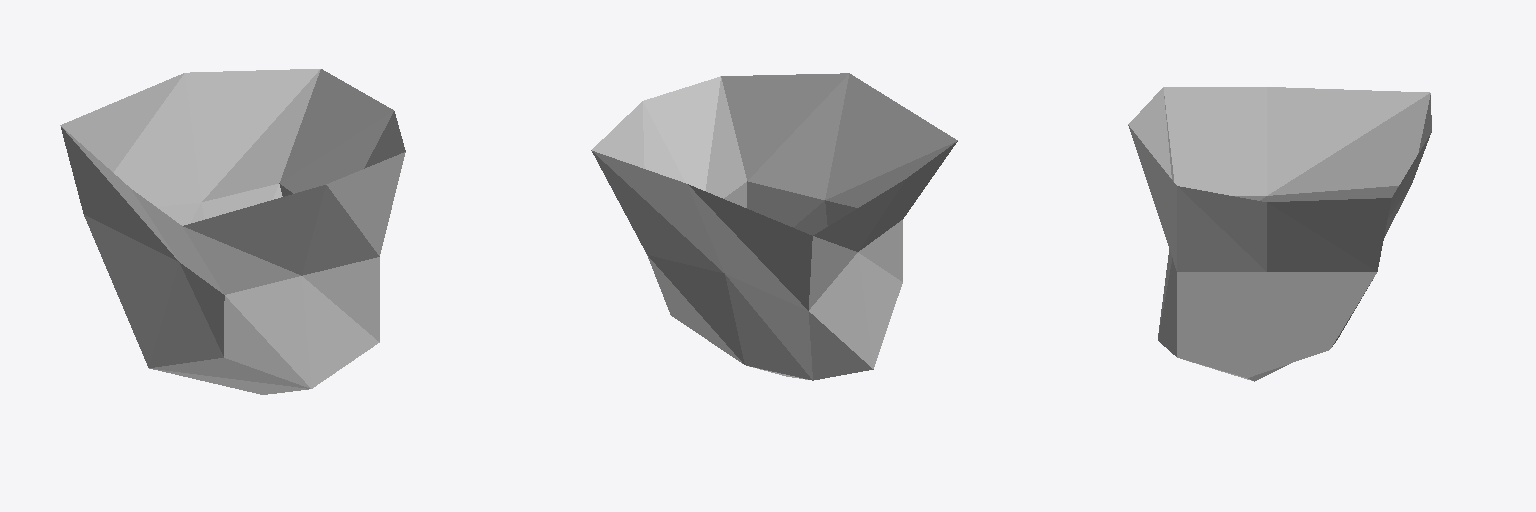
Rendered from HeartBottom4.obj.
3 views of the same model, side by side, from view 1: azimuth 30°, elevation 25°; view 2: azimuth 150°, elevation 25°; view 3: azimuth 270°, elevation 25° (orthographic).
Visible parts, largest first — view 1: Heart; view 2: Heart; view 3: Heart.
Boxes of the visible parts, box(x1,y1,x2,y2) form: Heart: box(60, 69, 405, 394); Heart: box(591, 73, 957, 380); Heart: box(1128, 87, 1431, 381).
Bounding box in the file's own units: 3.39 × 3.16 × 3.38.